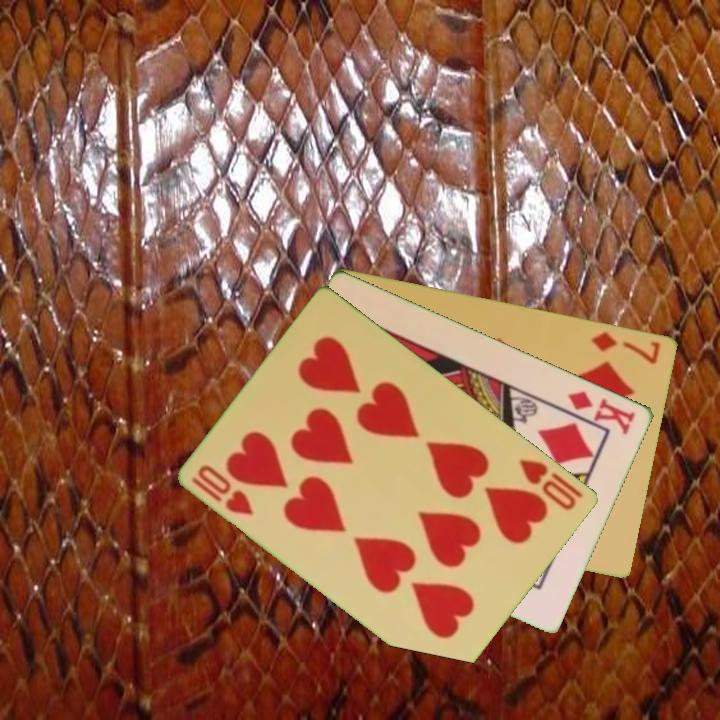10h: (516, 455, 586, 513), (188, 461, 257, 518)
7d: (588, 327, 664, 366)
Kd: (565, 387, 639, 438)
